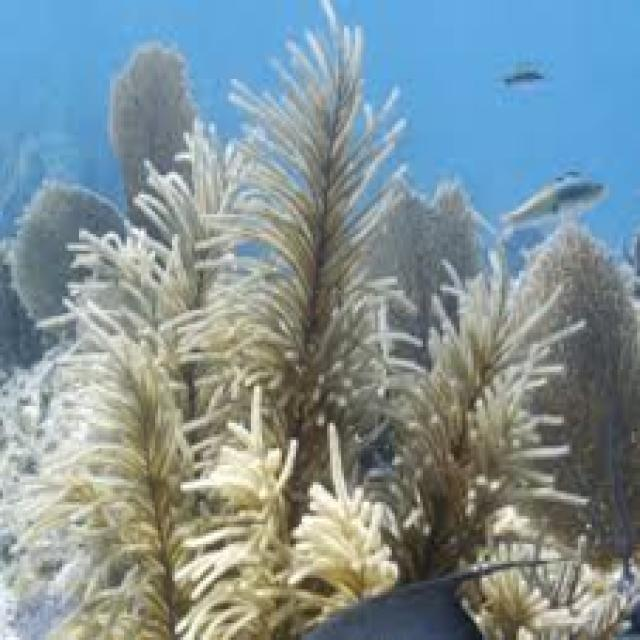Bleached: (229, 15, 401, 435), (29, 232, 193, 638), (393, 249, 568, 576), (134, 119, 243, 387), (181, 387, 297, 638), (289, 424, 399, 604)
